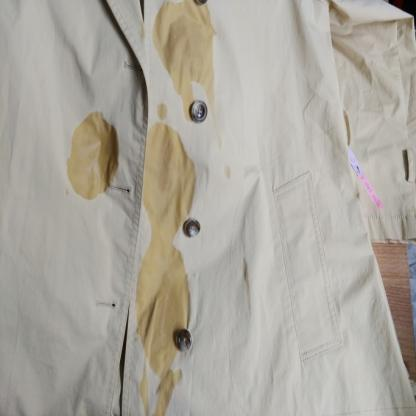coffee: (143, 132, 193, 220), (161, 8, 209, 74), (139, 253, 172, 346), (71, 123, 117, 189)
